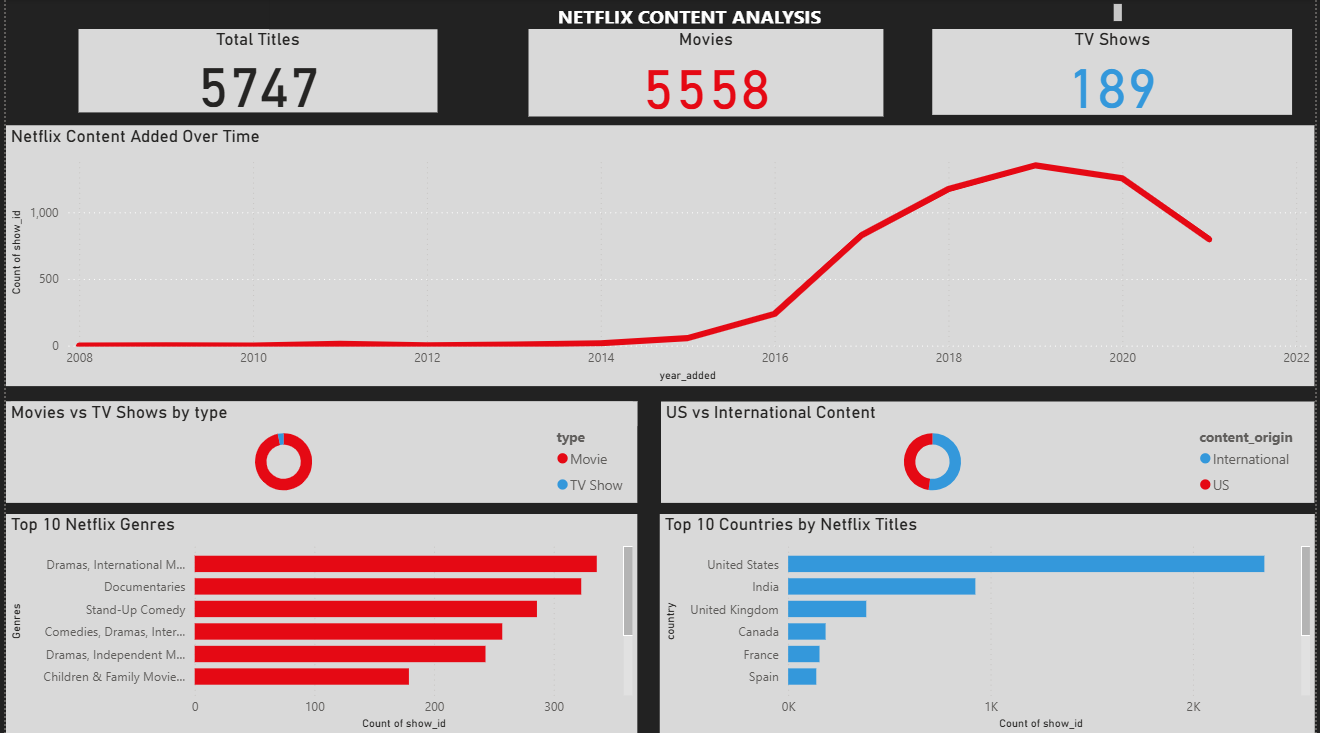

The dashboard page shown, as its layout file describes it:
{"tool":"powerbi","page":{"name":"Page 1","canvas":[1280,720],"ordinal":0},"visuals":[{"type":"card","title":"Total Titles","fields":{"Values":["CountNonNull(netflix_titles.show_id)"]},"box":[70.9,29.3,351,81.9],"z":0},{"type":"donutChart","fields":{"Y":["Count(netflix_titles.show_id)"],"Category":["netflix_titles.type"]},"box":[0,393.8,617.5,99],"z":1000},{"type":"lineChart","title":"Netflix Content Added Over Time","fields":{"Y":["CountNonNull(netflix_titles.show_id)"],"Category":["netflix_titles.year_added"]},"box":[0,123.5,1280.3,255.6],"z":2000},{"type":"donutChart","title":"US vs International Content","fields":{"Category":["netflix_titles.content_origin"],"Y":["CountNonNull(netflix_titles.show_id)"]},"box":[640.8,393.8,639.5,99],"z":3000},{"type":"barChart","title":"Top 10 Countries by Netflix Titles","fields":{"Category":["netflix_titles.country.1"],"Y":["CountNonNull(netflix_titles.show_id)"]},"box":[639.5,503.8,640.8,216.4],"z":4000},{"type":"barChart","title":"Top 10 Netflix Genres","fields":{"Y":["CountNonNull(netflix_titles.show_id)"],"Category":["netflix_titles.Genres"]},"box":[0,503.8,617.5,216.4],"z":5000},{"type":"textbox","box":[258,0,838.9,29.3],"z":6000},{"type":"card","title":"Movies","fields":{"Values":["CountNonNull(netflix_titles.show_id)"]},"box":[511.1,29.3,347.3,85.6],"z":7000},{"type":"card","title":"TV Shows","fields":{"Values":["CountNonNull(netflix_titles.show_id)"]},"box":[906.1,29.3,352.2,84.4],"z":8000}]}

Visuals, with their boxes in screenshot pixels (x1, y1, x2, y2), scaled from the page's 1280x720 canvas onto the 1320x733 screenshot:
"Total Titles" card: 73/30/435/113
donutChart - Count(netflix_titles.show_id) x netflix_titles.type: 0/401/637/502
"Netflix Content Added Over Time" lineChart: 0/126/1319/386
"US vs International Content" donutChart: 661/401/1319/502
"Top 10 Countries by Netflix Titles" barChart: 659/513/1319/732
"Top 10 Netflix Genres" barChart: 0/513/637/732
textbox: 266/0/1131/30
"Movies" card: 527/30/885/117
"TV Shows" card: 934/30/1298/116
